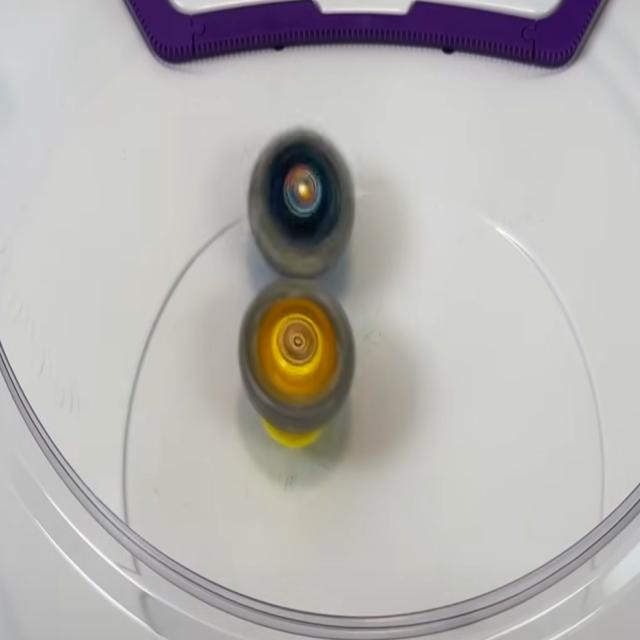Beyblade: (240, 284, 354, 448), (248, 127, 356, 278)
